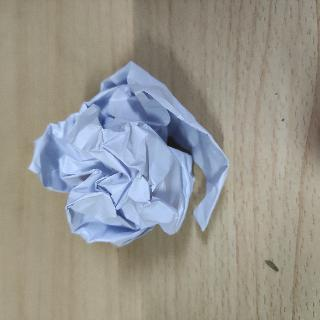8/可回收垃圾/纸: (27, 59, 230, 248)
